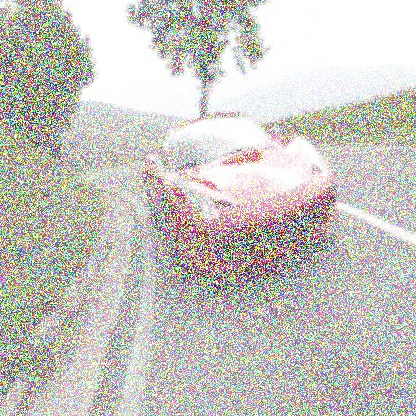Vehicle: (142, 113, 342, 286)
